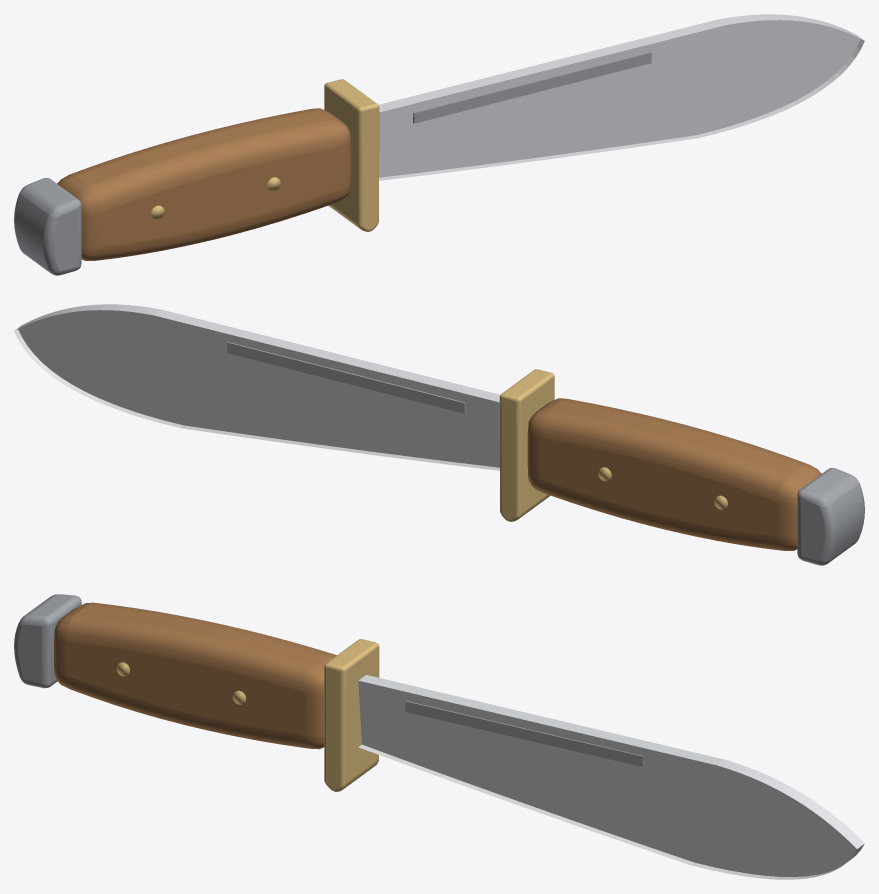
The model's file is knife_falchion.glb.
3 renders of one model, top to bottom at view 1: azimuth 30°, elevation 25°; view 2: azimuth 150°, elevation 25°; view 3: azimuth 330°, elevation 25°, orthographic.
Parts seen in each view (by area): view 1: lod_skin_blade, lod_detail_wood, lod_metal_steel, lod_detail_brass; view 2: lod_skin_blade, lod_detail_wood, lod_metal_steel, lod_detail_brass; view 3: lod_skin_blade, lod_detail_wood, lod_metal_steel, lod_detail_brass.
Boxes of the visible parts, <box> form: lod_skin_blade: <box>378,14,864,180</box>; lod_detail_wood: <box>57,108,351,260</box>; lod_metal_steel: <box>14,52,651,275</box>; lod_detail_brass: <box>151,79,379,231</box>; lod_skin_blade: <box>14,304,500,470</box>; lod_detail_wood: <box>527,398,821,550</box>; lod_metal_steel: <box>227,342,864,565</box>; lod_detail_brass: <box>499,369,727,521</box>; lod_skin_blade: <box>358,675,864,879</box>; lod_detail_wood: <box>54,602,336,749</box>; lod_metal_steel: <box>14,594,643,766</box>; lod_detail_brass: <box>116,639,379,791</box>.
Size of the model in its own units: 0.3152 by 0.0457 by 0.024.
